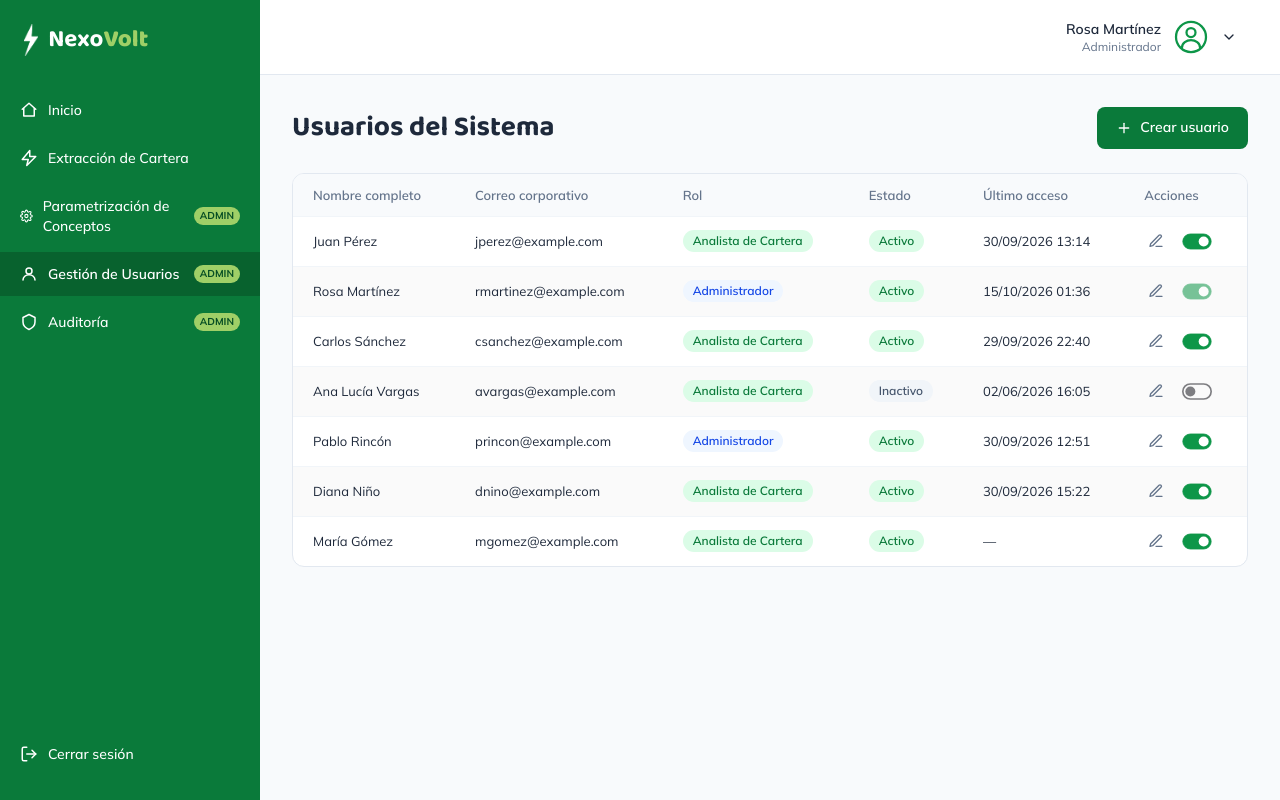
editar usuario › carga los datos, guarda los cambios y actualiza la fila
The width and height of the screenshot is (1280, 800).
Expected: the text "Juan Pérez" is shown, [293,216,455,266]
Click the button named "Editar a Carlos Sánchez": (1156, 341) [1144,329,1168,353]
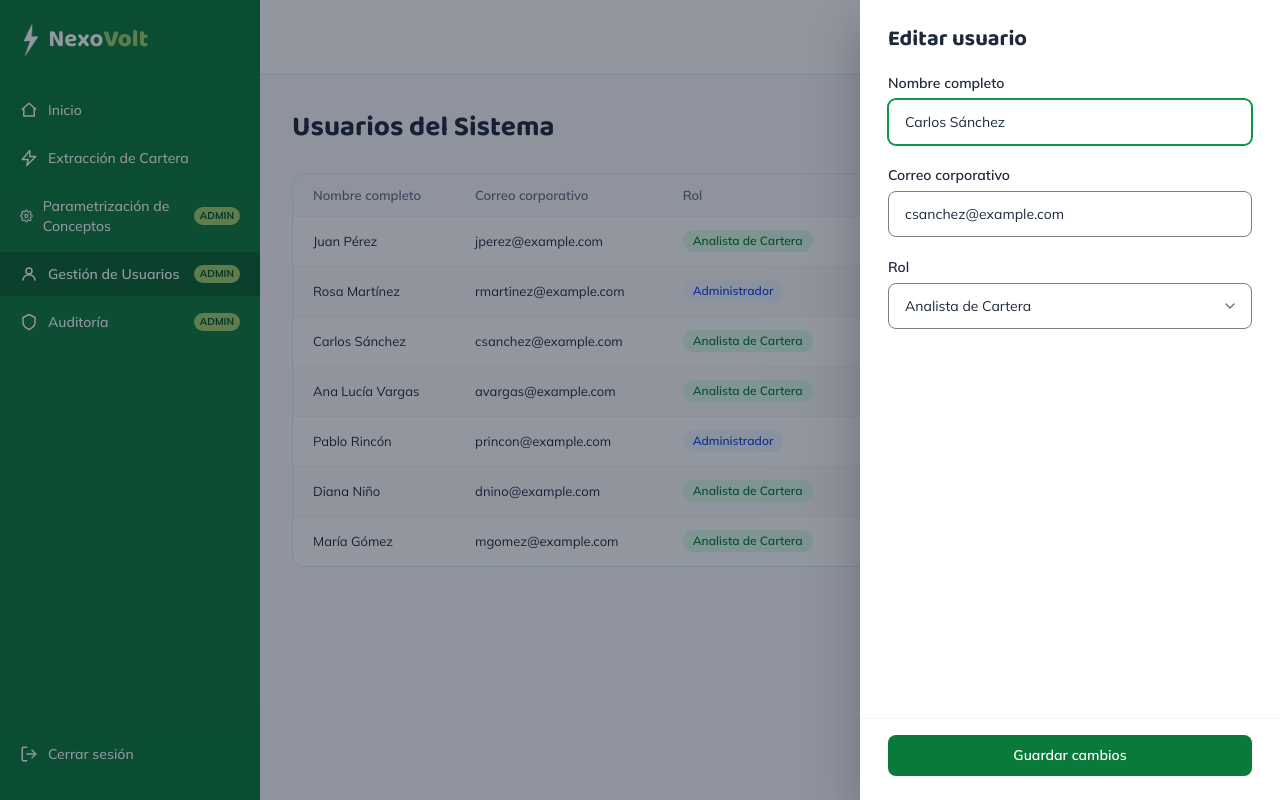
Expected: the field labelled "Nombre completo" holds "Carlos Sánchez"
Replace the text in the field labelled "Nombre completo" with "Carlos A. Sánchez": (1070, 122) [888,99,1252,145]
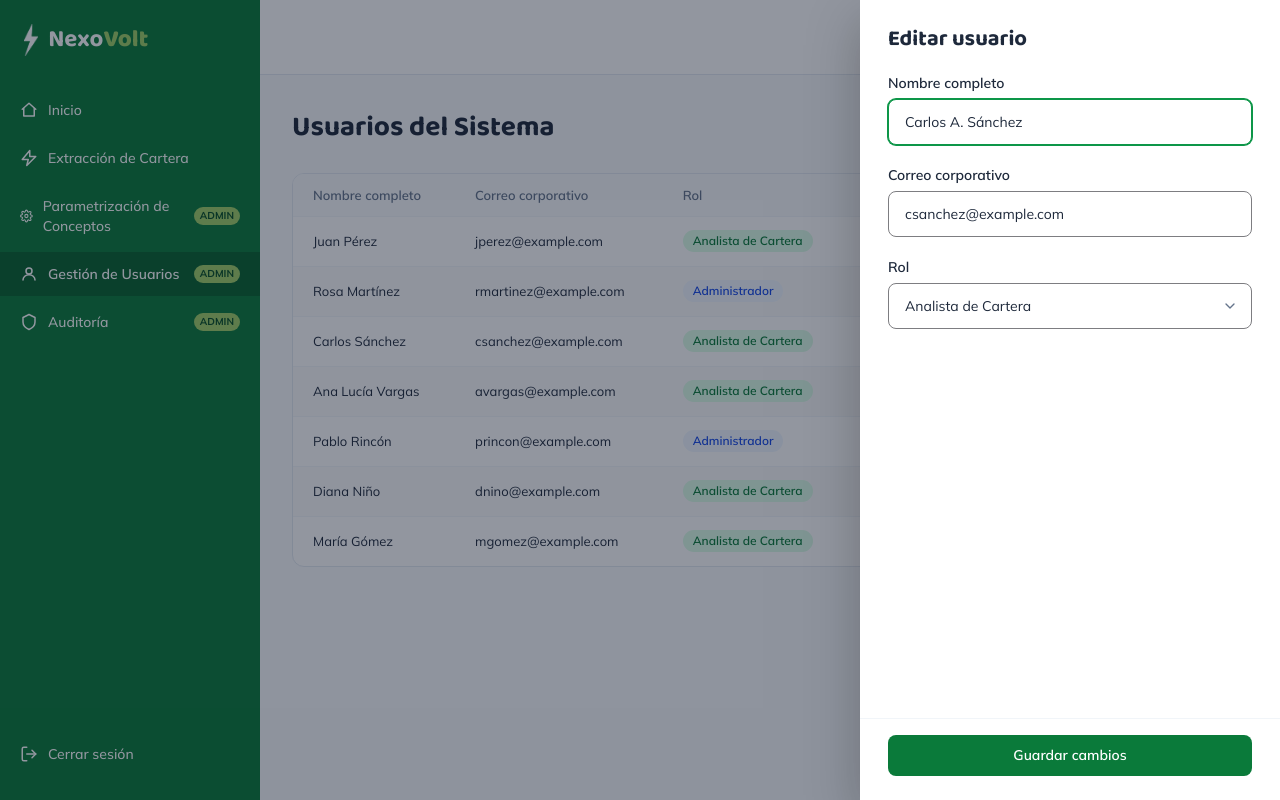
Click the button "Guardar cambios": (1070, 755) [888,734,1252,776]
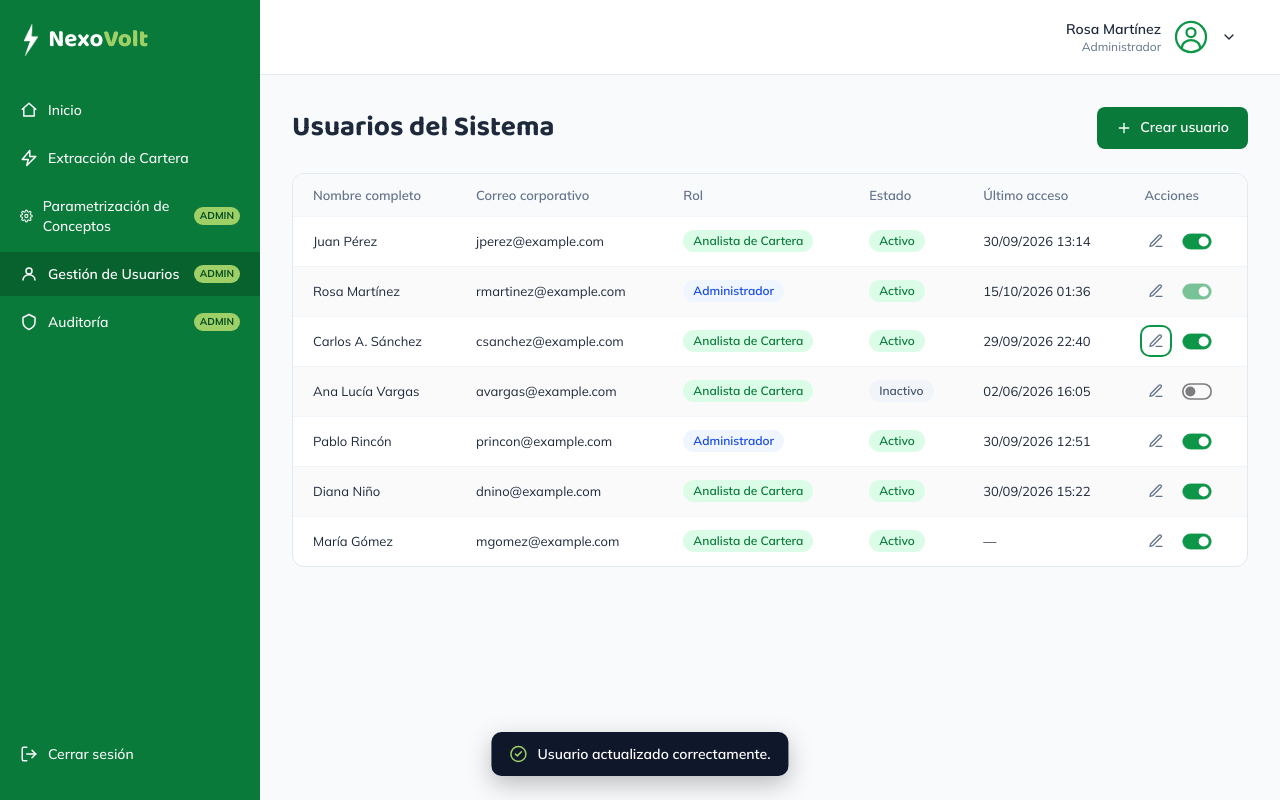
Expected: the text "csanchez@example.com" is shown, [456,316,663,366]
Expected: the text "Usuario actualizado correctamente." is shown, [537,744,771,764]
